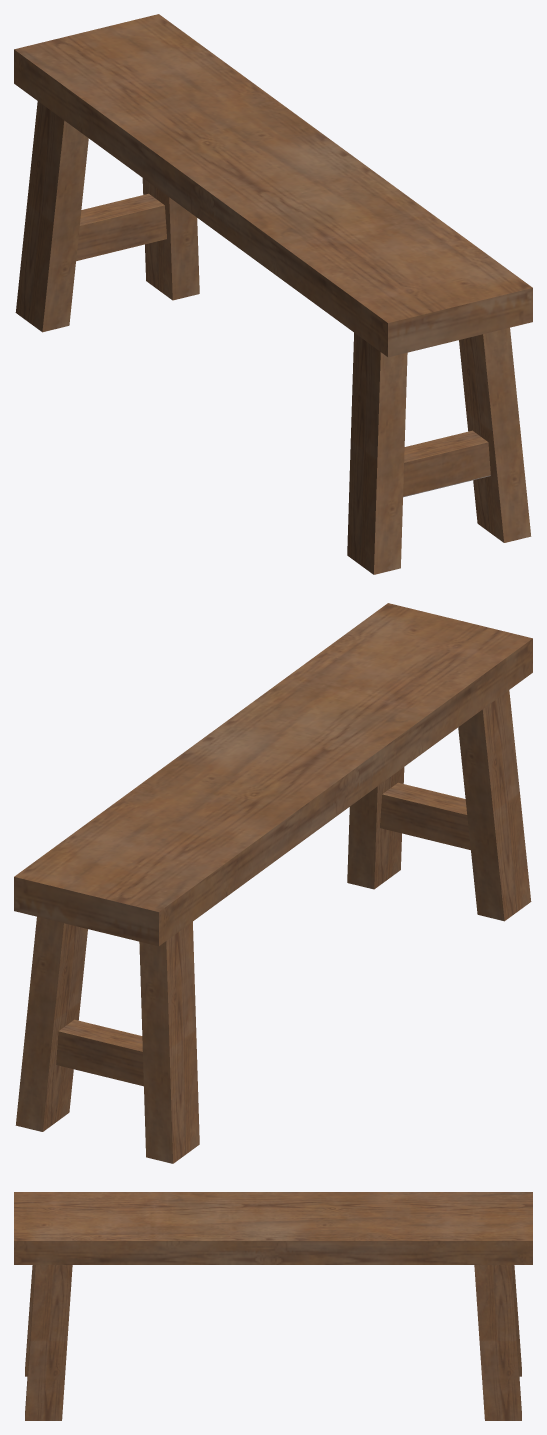
File: mt_prop_dengzi01.FBX
3 views of the same model, one above another, from view 1: azimuth 30°, elevation 25°; view 2: azimuth 150°, elevation 25°; view 3: azimuth 270°, elevation 25° (orthographic). The views are drawn at different scales.
Visible parts, largest first — view 1: mt_prop_dengzi01; view 2: mt_prop_dengzi01; view 3: mt_prop_dengzi01.
Boxes of the visible parts, x1=… form: mt_prop_dengzi01: x1=14, y1=14, x2=532, y2=574; mt_prop_dengzi01: x1=14, y1=603, x2=532, y2=1163; mt_prop_dengzi01: x1=14, y1=1192, x2=532, y2=1420.
Size of the model in its own units: 24.06 by 37.41 by 99.05.
